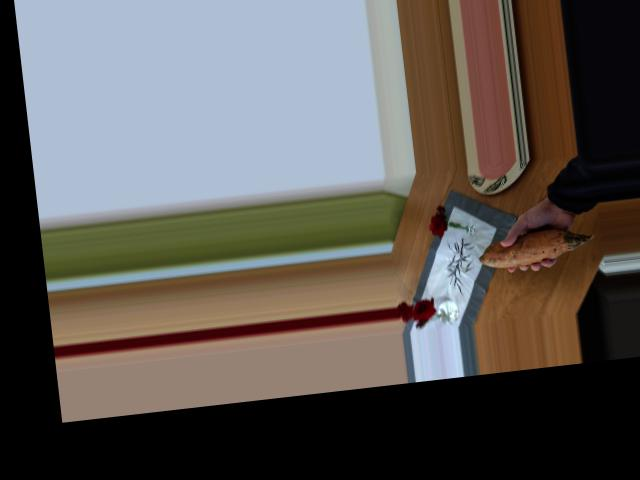sweet_potato: (472, 215, 586, 275)
